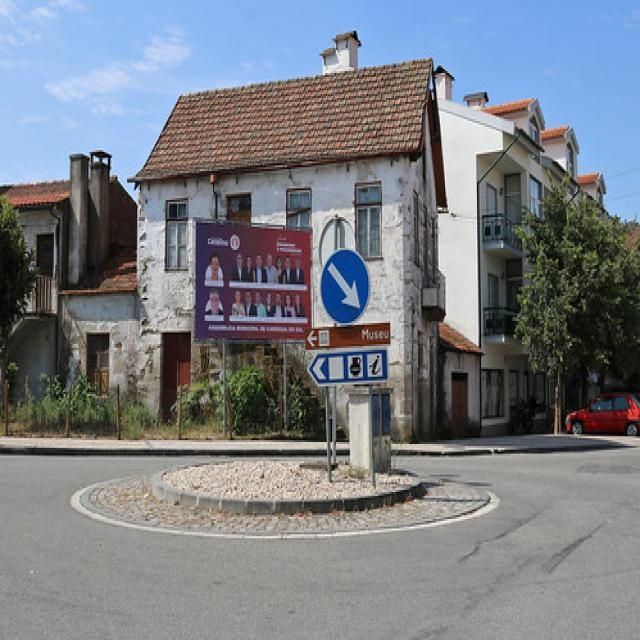Normal_building: (128, 55, 448, 445)
